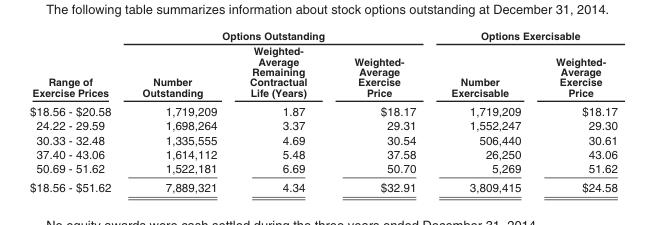table: (29, 29, 616, 194)
table column: (125, 29, 232, 194), (432, 29, 537, 194), (330, 29, 432, 194), (232, 29, 330, 194), (29, 29, 125, 194), (537, 29, 616, 194)
table column header: (29, 29, 616, 101)
table row: (29, 42, 616, 101), (29, 101, 616, 118), (29, 160, 616, 177), (29, 177, 616, 194), (29, 118, 616, 132), (29, 132, 616, 146), (29, 146, 616, 160), (29, 29, 616, 42)
table spanning cell: (29, 29, 125, 101), (125, 29, 432, 42), (432, 29, 616, 42)
